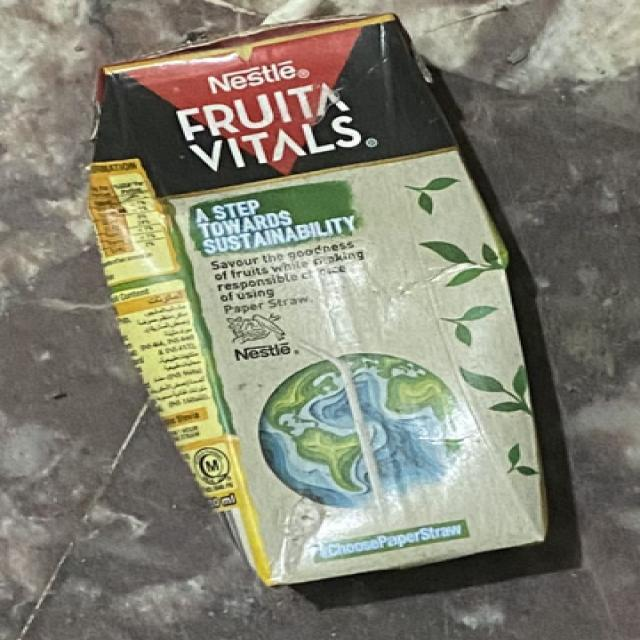electronic: (86, 12, 550, 588)
